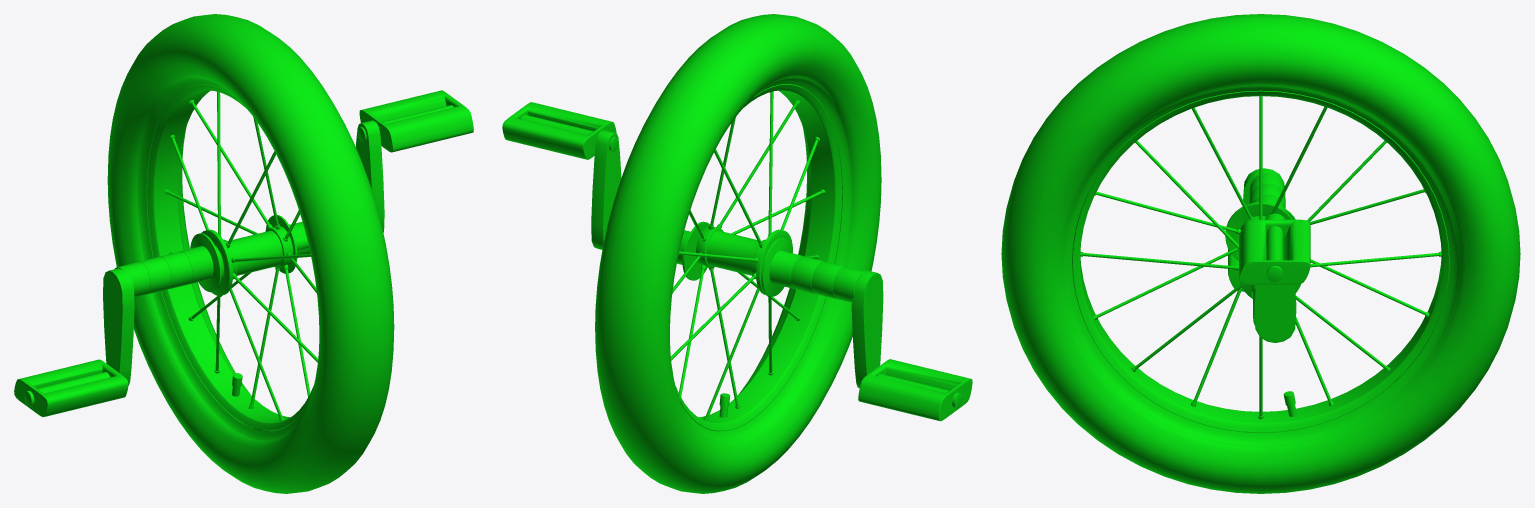
The model's file is bike.fbx.
3 renders of one model, left to right at view 1: azimuth 30°, elevation 25°; view 2: azimuth 150°, elevation 25°; view 3: azimuth 270°, elevation 25°, orthographic. The views are drawn at different scales.
Visible parts, largest first — view 1: Tire.001, Pedal.Right.001, Pedal.Right, Footrest.003, Footrest.002; view 2: Tire.001, Pedal.Right.001, Pedal.Right, Footrest.003, Footrest.002; view 3: Tire.001, Pedal.Right, Footrest.003, Pedal.Right.001.
Boxes of the visible parts, <box> form: Tire.001: <box>107,14,394,493</box>; Pedal.Right.001: <box>14,268,134,416</box>; Pedal.Right: <box>356,90,473,232</box>; Footrest.003: <box>114,233,221,297</box>; Footrest.002: <box>265,215,310,273</box>; Tire.001: <box>595,14,881,493</box>; Pedal.Right.001: <box>851,270,972,421</box>; Pedal.Right: <box>502,102,621,249</box>; Footrest.003: <box>761,237,863,302</box>; Footrest.002: <box>677,221,709,280</box>; Tire.001: <box>1001,14,1520,493</box>; Pedal.Right: <box>1239,213,1310,342</box>; Footrest.003: <box>1249,173,1295,219</box>; Pedal.Right.001: <box>1228,168,1284,291</box>.
Size of the model in its own units: 74.64 by 72.17 by 72.17.
